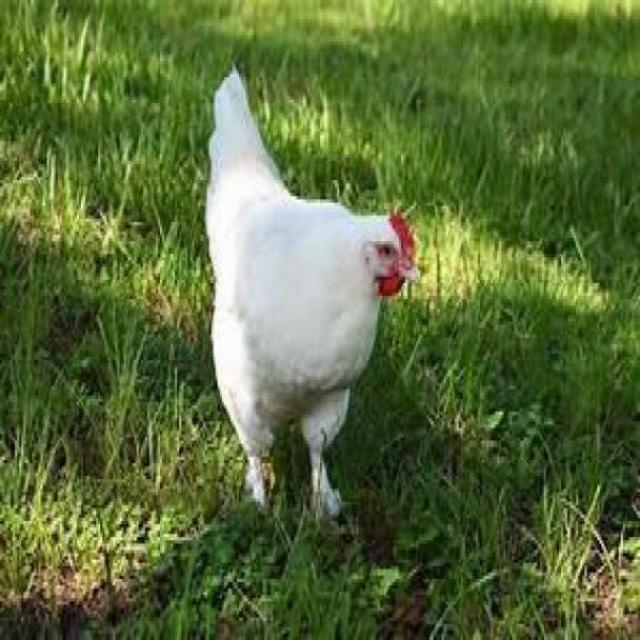Chicken: (205, 61, 420, 518)
